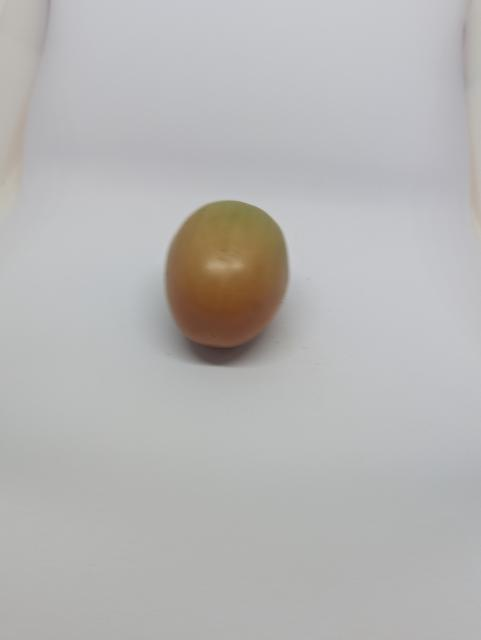turning: (160, 199, 293, 360)
